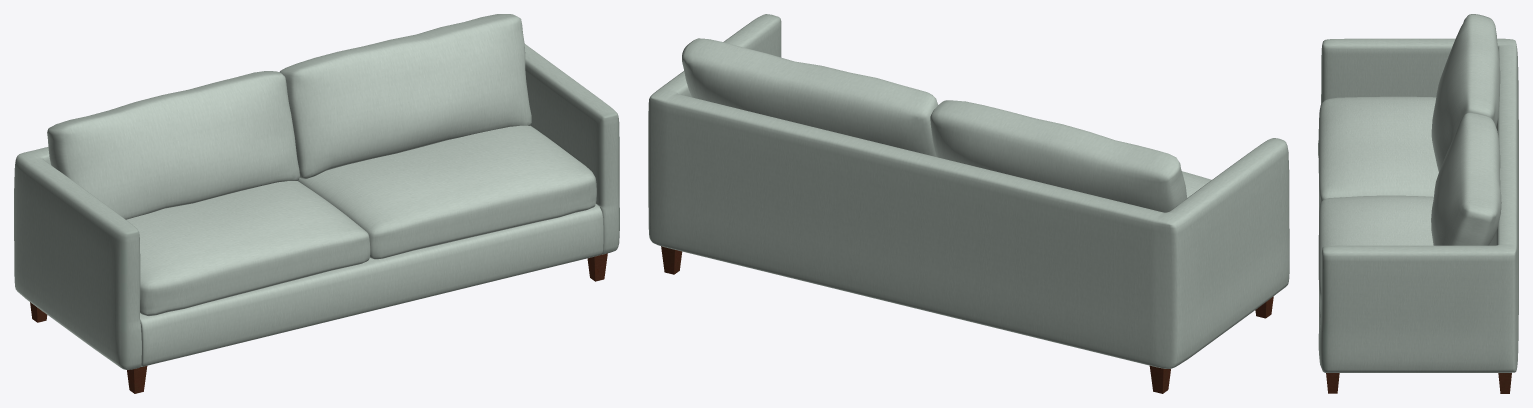
Rendered from sofa_B07B4MSP96.glb.
3 views of the same model, side by side, from view 1: azimuth 30°, elevation 25°; view 2: azimuth 150°, elevation 25°; view 3: azimuth 270°, elevation 25° (orthographic). The views are drawn at different scales.
Visible parts, largest first — view 1: RootNode; view 2: RootNode; view 3: RootNode.
Part boxes in pixels (box(x1,y1,x2,y2)): RootNode: box(14, 14, 619, 393); RootNode: box(648, 14, 1289, 393); RootNode: box(1318, 14, 1518, 393).
Size of the model in its own units: 2.43 by 0.9648 by 0.9479.
Materials: 1 (1 with a texture image).
